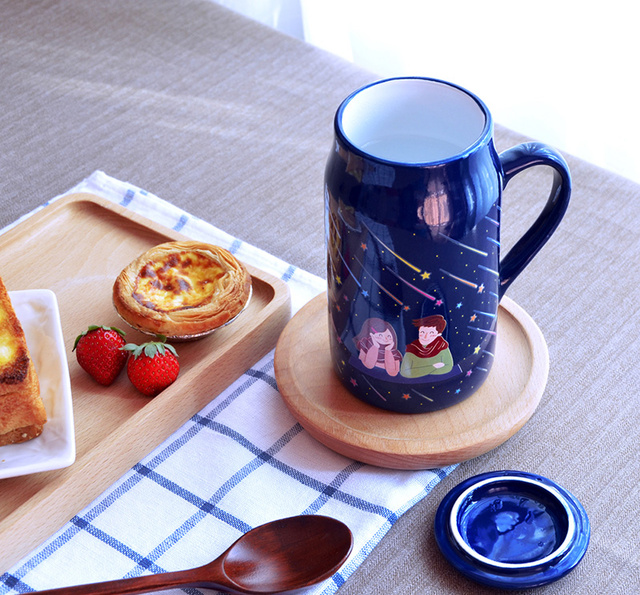cup: (322, 74, 574, 414)
